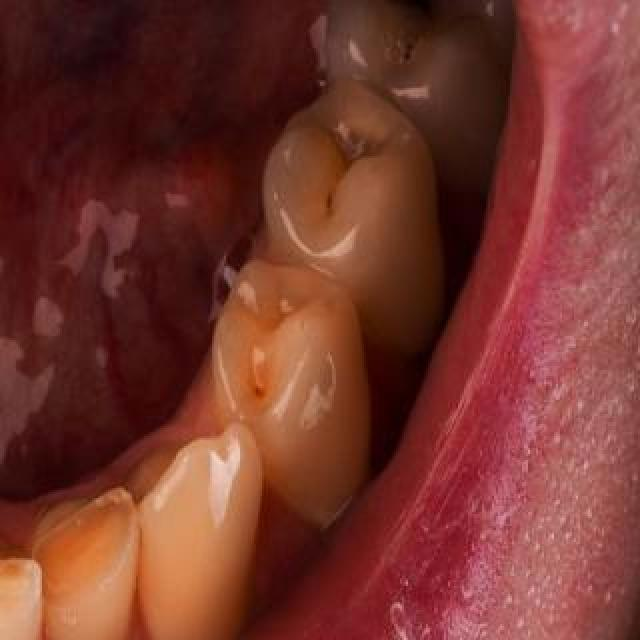cavities: (275, 95, 403, 215)
spacing: (34, 472, 168, 640), (0, 550, 58, 640)
